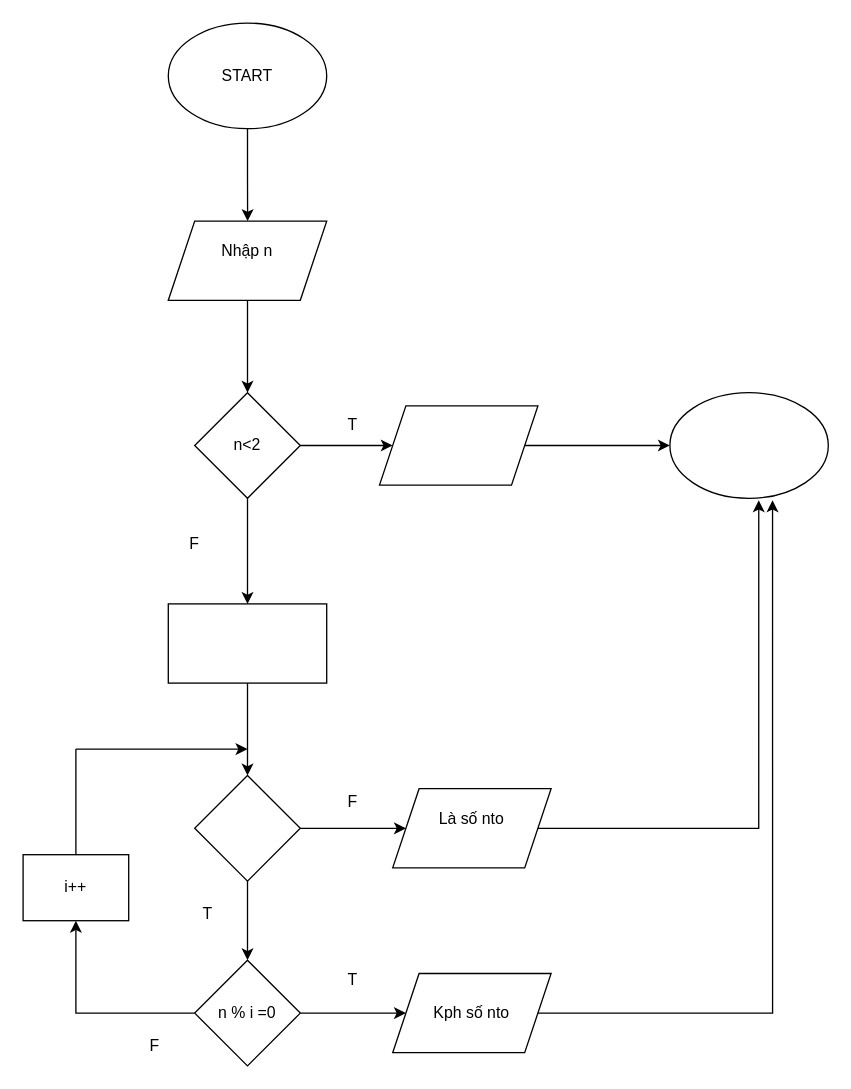
Image size: 851x1089. Some labels were removed from this diagram. Each missing label, with the centre of its shape:
"END" goes at [748,444].
"i <= căn bậc hai n" goes at [246,827].
"i=2" goes at [247,643].
"Kphai số ng tố" goes at [458,445].
